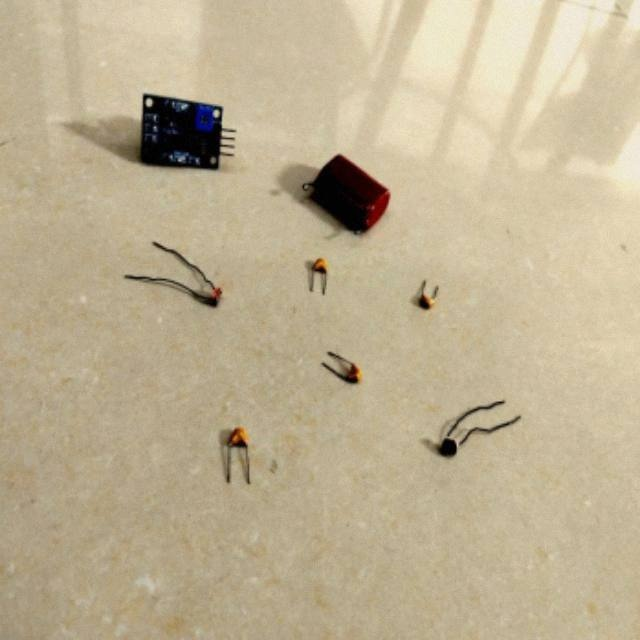capacitor: (313, 157, 388, 232), (327, 355, 358, 384), (229, 428, 246, 447), (313, 258, 326, 274), (419, 296, 430, 309)
